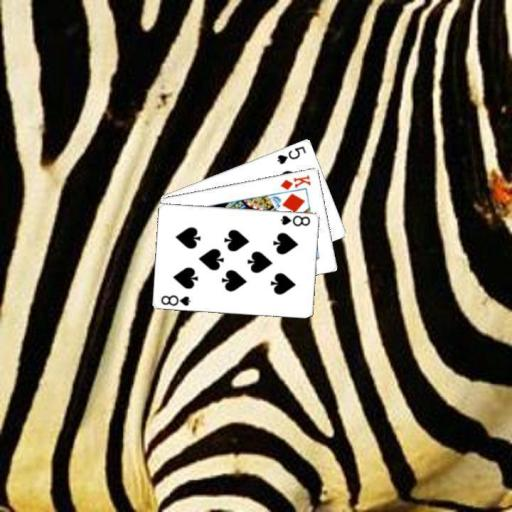card-corner: (274, 142, 308, 166), (278, 172, 312, 192), (278, 212, 312, 227), (158, 292, 192, 307)
